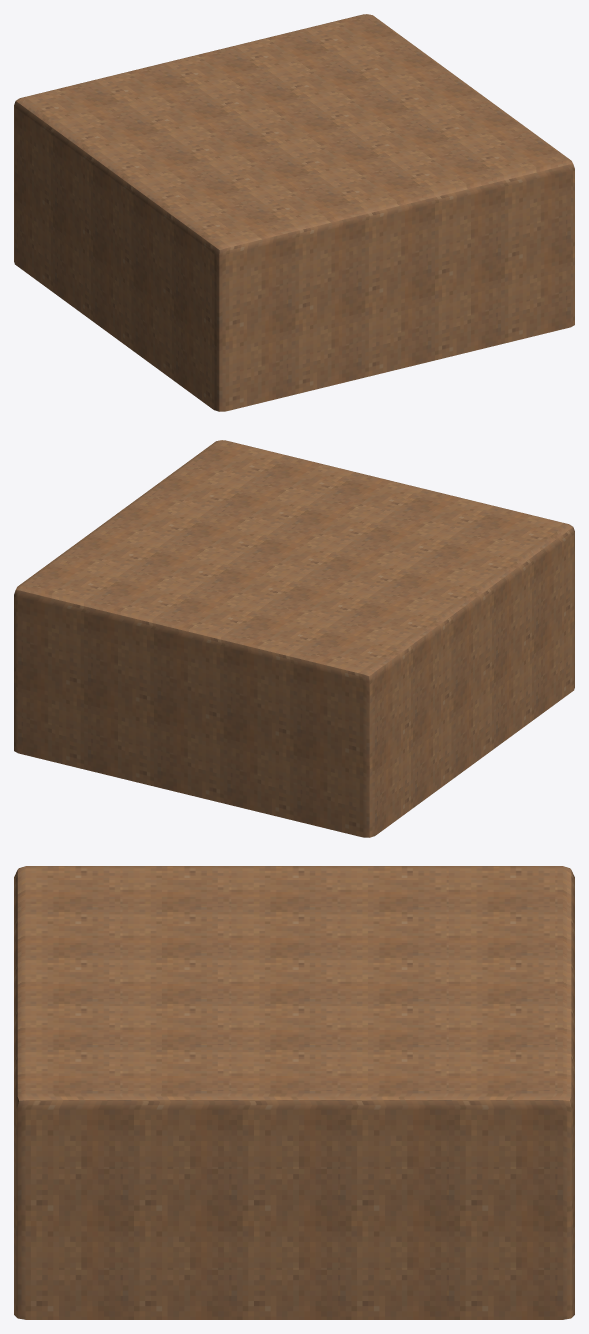
File: ground.fbx
3 renders of one model, top to bottom at view 1: azimuth 30°, elevation 25°; view 2: azimuth 150°, elevation 25°; view 3: azimuth 270°, elevation 25°, orthographic. The views are drawn at different scales.
Visible parts, largest first — view 1: zimen; view 2: zimen; view 3: zimen.
Part boxes in pixels (x1,y1,x2,y2): zimen: (14, 14, 574, 411); zimen: (14, 440, 574, 837); zimen: (14, 866, 574, 1319).
Bounding box in the file's own units: 41.02 × 17.88 × 41.02.
